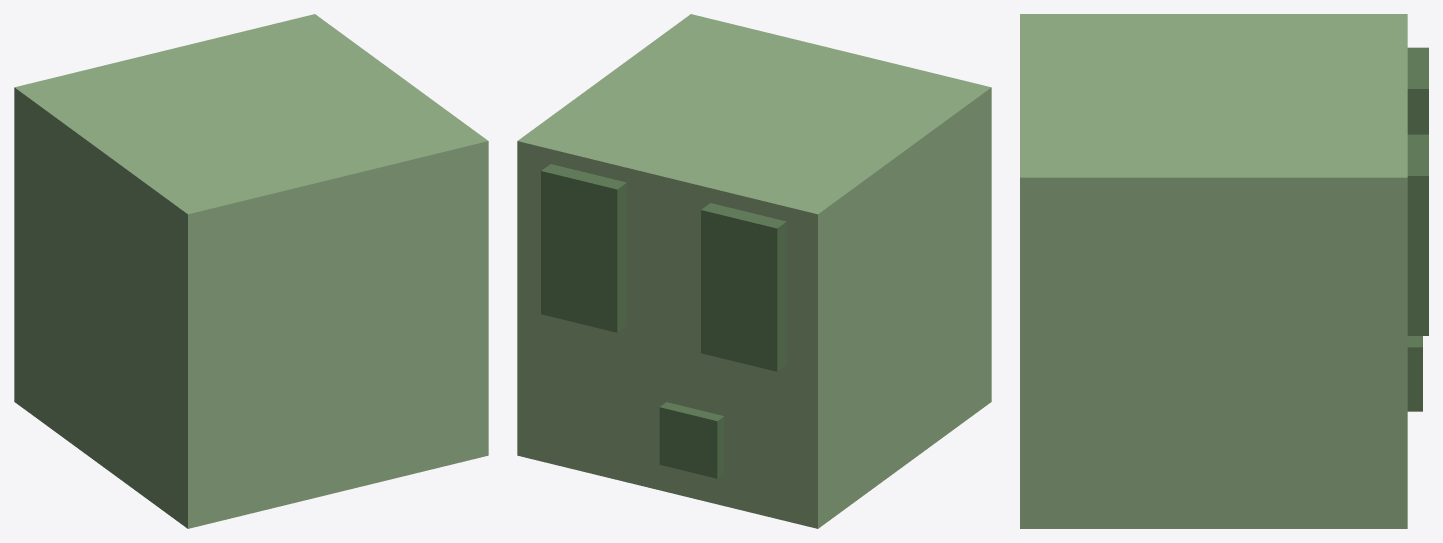
Rendered from Blockling.fbx.
3 renders of one model, left to right at view 1: azimuth 30°, elevation 25°; view 2: azimuth 150°, elevation 25°; view 3: azimuth 270°, elevation 25°, orthographic. The views are drawn at different scales.
Visible parts, largest first — view 1: Cube.001; view 2: Cube.001; view 3: Cube.001.
Boxes of the visible parts, <box> form: Cube.001: <box>14,14,488,528</box>; Cube.001: <box>517,14,991,528</box>; Cube.001: <box>1020,14,1428,528</box>.
Bounding box in the file's own units: 166 × 166 × 175.
